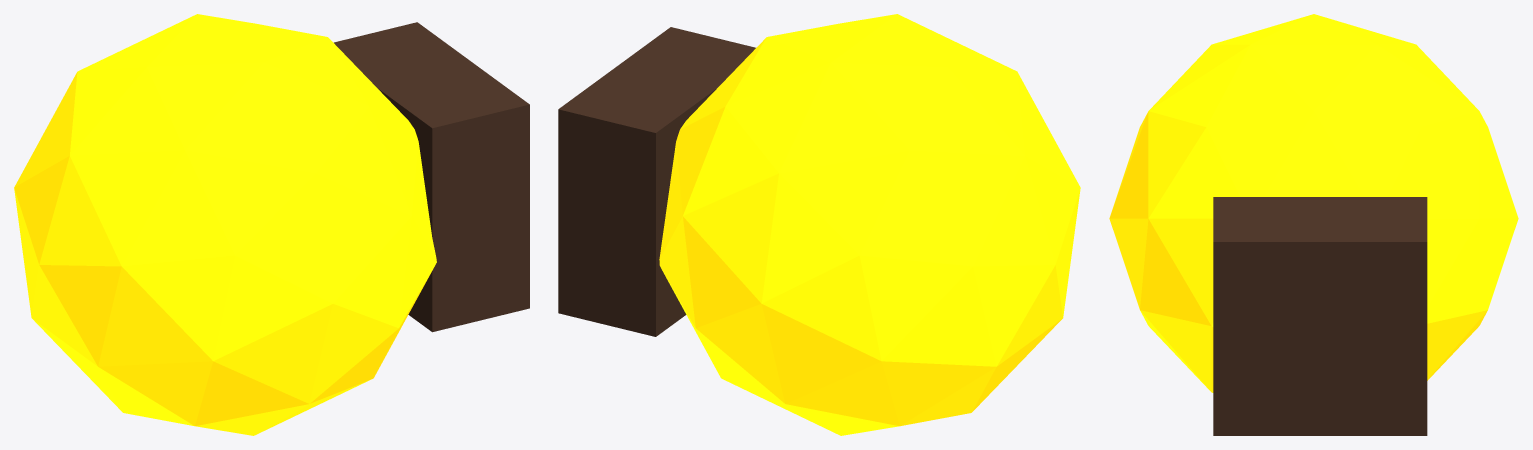
Rendered from WallLamp.fbx.
3 views of the same model, side by side, from view 1: azimuth 30°, elevation 25°; view 2: azimuth 150°, elevation 25°; view 3: azimuth 270°, elevation 25° (orthographic). The views are drawn at different scales.
Visible parts, largest first — view 1: WallLamp; view 2: WallLamp; view 3: WallLamp.
Part boxes in pixels (left/top/right/bottom): WallLamp: left=14, top=14, right=529, bottom=435; WallLamp: left=558, top=14, right=1080, bottom=435; WallLamp: left=1109, top=14, right=1518, bottom=435.
Bounding box in the file's own units: 72.29 × 58.53 × 61.57.
